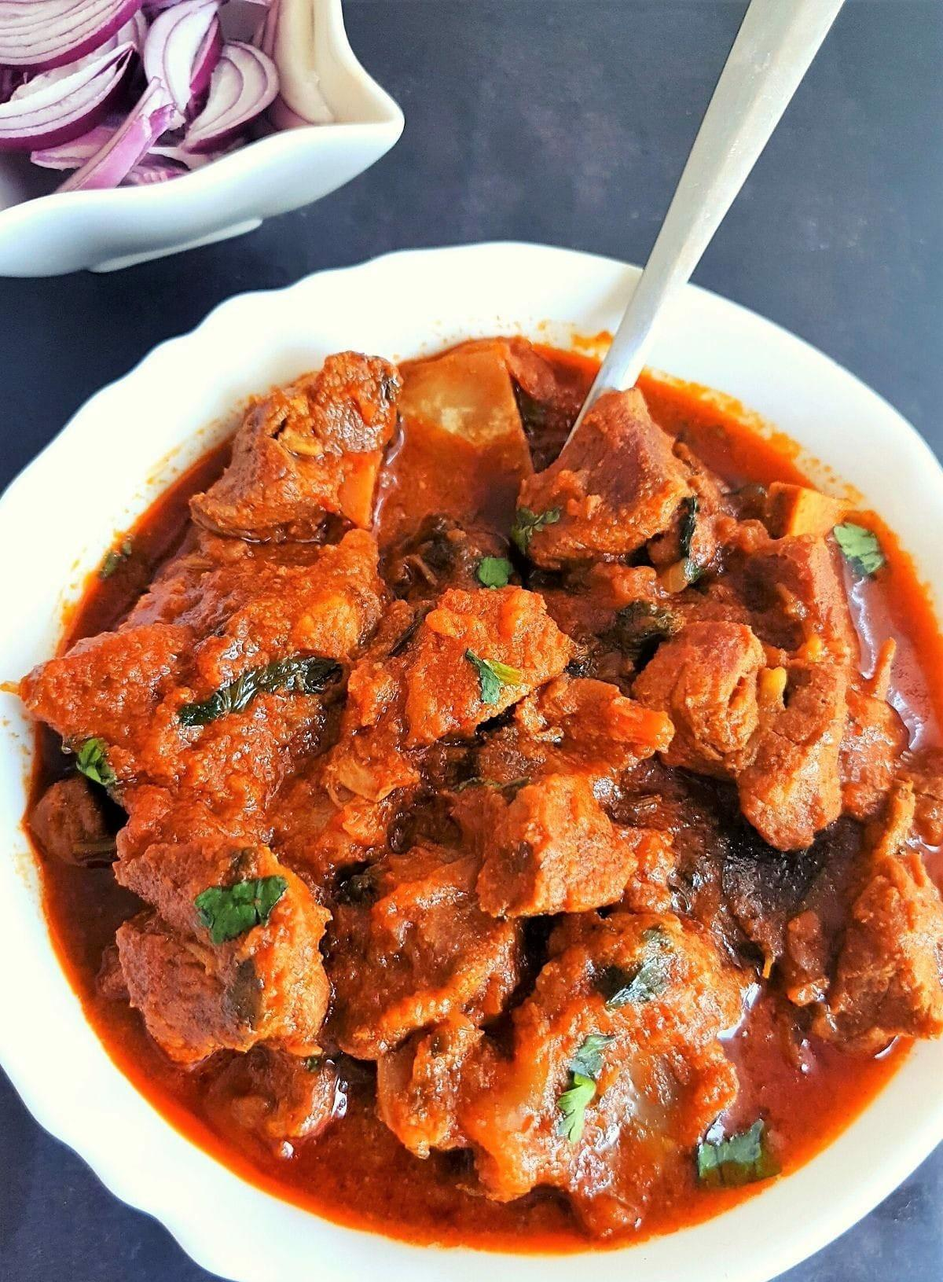MuttonCurry: (0, 330, 943, 1244)
